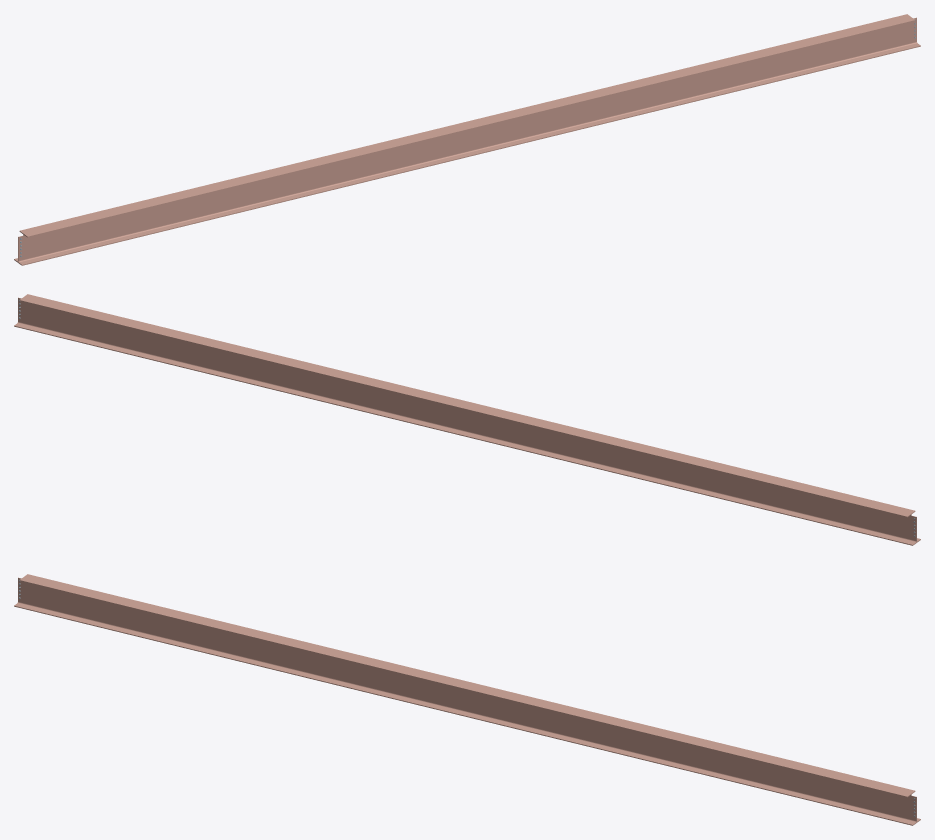
3 views of the same model, one above another, from view 1: azimuth 30°, elevation 25°; view 2: azimuth 150°, elevation 25°; view 3: azimuth 330°, elevation 25° (orthographic).
Visible parts, largest first — view 1: product-bc37b2ae-c4cc-4dfc-9eff-d090318a262d-body; view 2: product-bc37b2ae-c4cc-4dfc-9eff-d090318a262d-body; view 3: product-bc37b2ae-c4cc-4dfc-9eff-d090318a262d-body.
Part boxes in pixels (box(x1,y1,x2,y2)): product-bc37b2ae-c4cc-4dfc-9eff-d090318a262d-body: box(14, 14, 920, 265); product-bc37b2ae-c4cc-4dfc-9eff-d090318a262d-body: box(14, 294, 920, 545); product-bc37b2ae-c4cc-4dfc-9eff-d090318a262d-body: box(14, 574, 920, 825).
Bounding box in the file's own units: 20.69 × 0.6121 × 0.3251.
